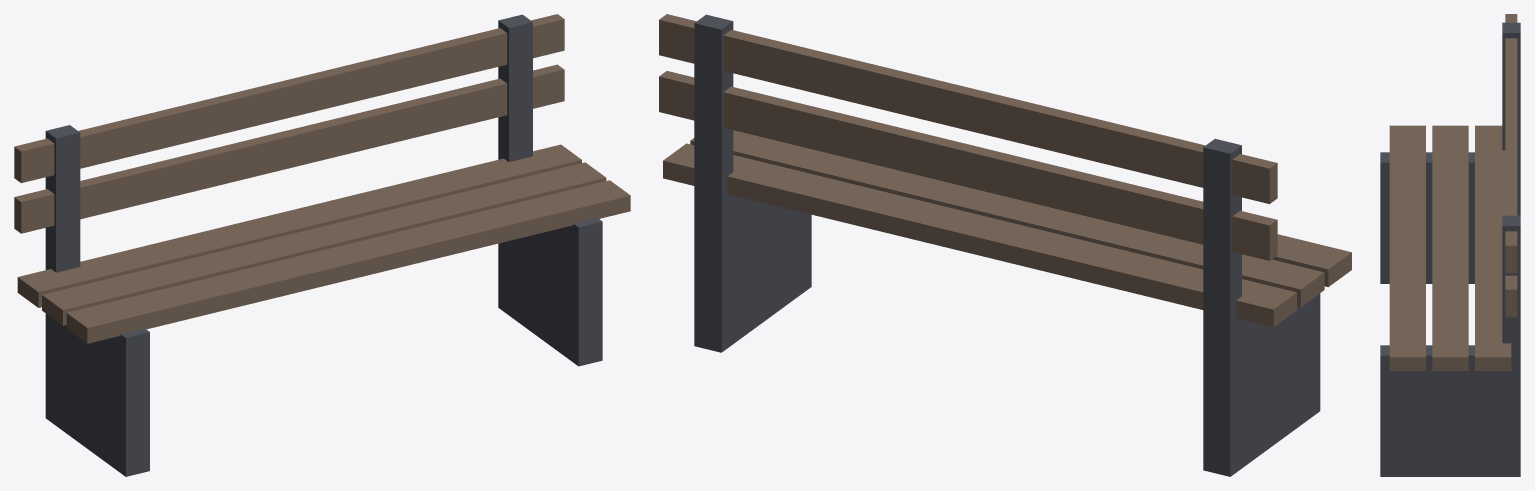
Rendered from banco.glb.
3 renders of one model, left to right at view 1: azimuth 30°, elevation 25°; view 2: azimuth 150°, elevation 25°; view 3: azimuth 270°, elevation 25°, orthographic. The views are drawn at different scales.
Parts seen in each view (by area): view 1: Banco; view 2: Banco; view 3: Banco.
Part boxes in pixels (x1,y1,x2,y2): Banco: [14, 14, 630, 476]; Banco: [659, 14, 1351, 476]; Banco: [1380, 14, 1520, 476].
Bounding box in the file's own units: 1.8 × 0.91 × 0.46.
